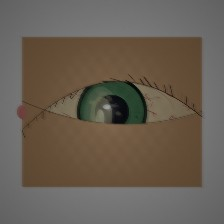corneal_ulcer: (71, 91, 132, 140)
